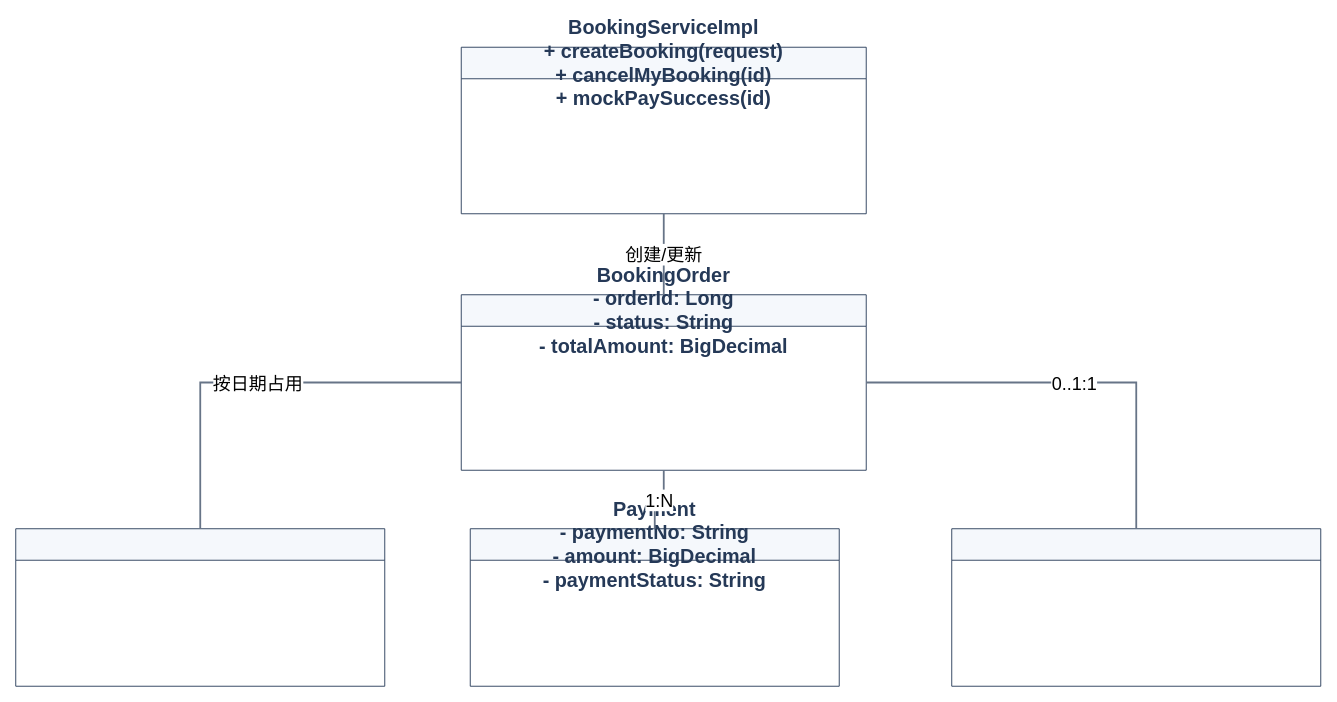
Image size: 1337x702. Some labels were removed from this diagram. Each missing label, with the centre of its shape:
"DailyDeal - quota: Integer - discountRate: BigDecimal" goes at point 1136,607.
"RoomInventory - inventoryDate: LocalDate - lockedQty: Integer - soldQty: Integer" goes at point 200,607.
